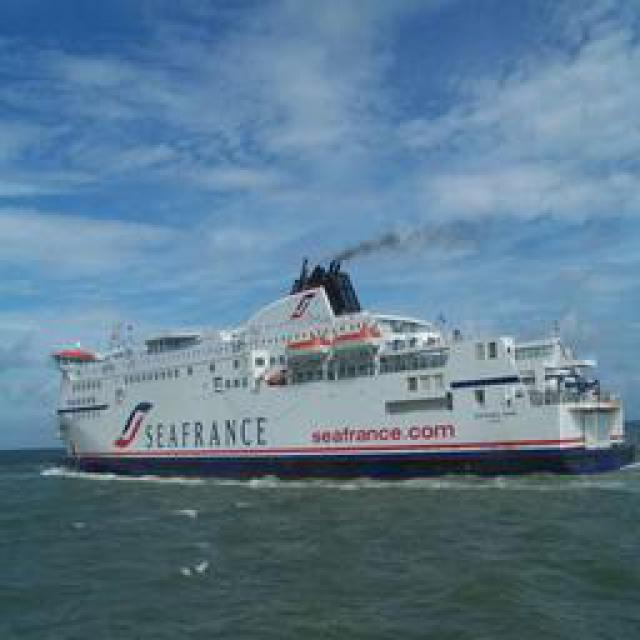Ship: (53, 248, 631, 476)
